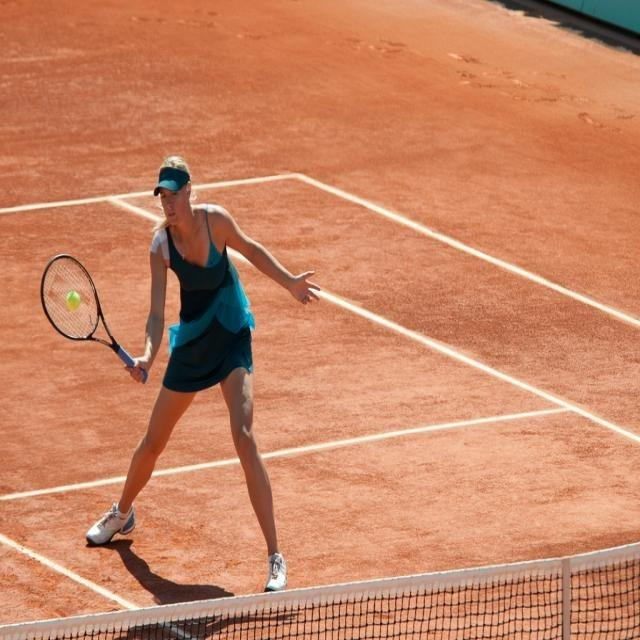ball: (66, 290, 80, 310)
